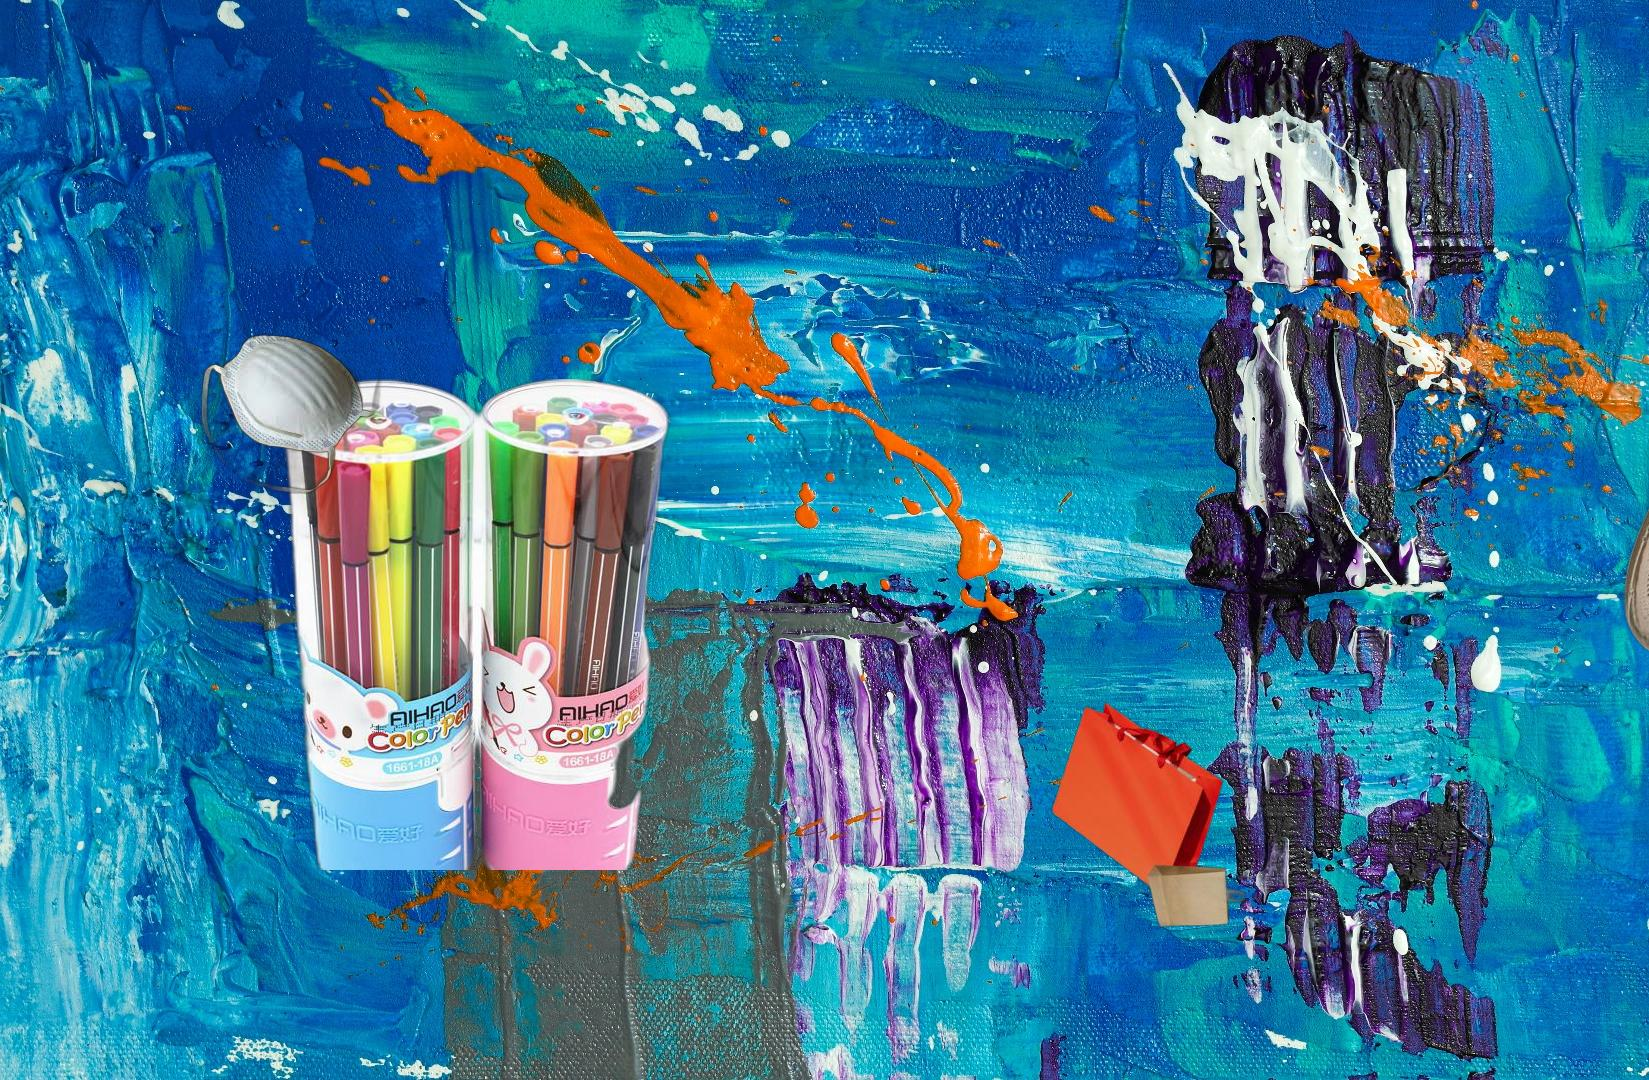glass: (1620, 415, 1649, 799)
paper-bag: (1050, 700, 1250, 929)
penholder: (275, 378, 676, 870)
trash: (196, 304, 385, 507)
